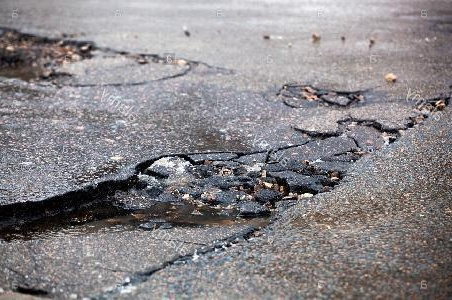pothole: (0, 90, 450, 297), (0, 23, 102, 84), (275, 81, 369, 111)
